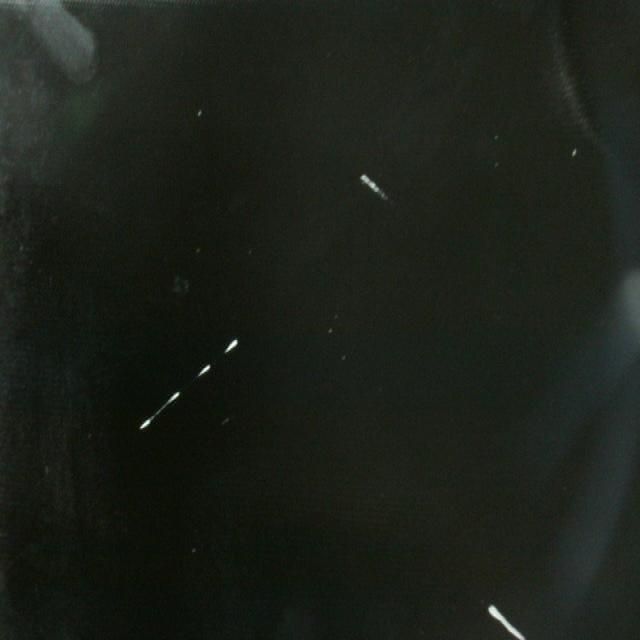scratch: (138, 330, 242, 445), (352, 160, 407, 223), (478, 596, 533, 640)
